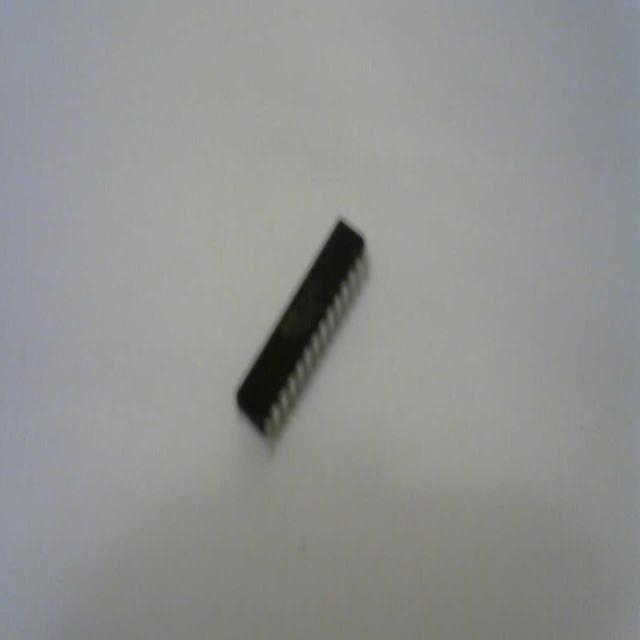atmega: (233, 212, 371, 450)
